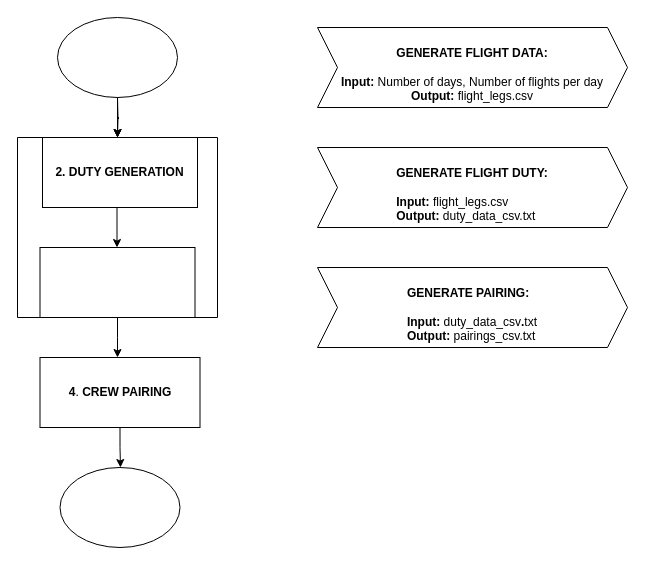
Some shapes in this 645 by 565 pixel diagram are drawn without their labels. The shapes that lost their labels are listed below. From the top down, each one's centre as x and y in pixels, then its label:
At point 117,57: "1.START".
At point 117,282: "3. PAIRING GENERATION".
At point 119,507: "5 . END".
